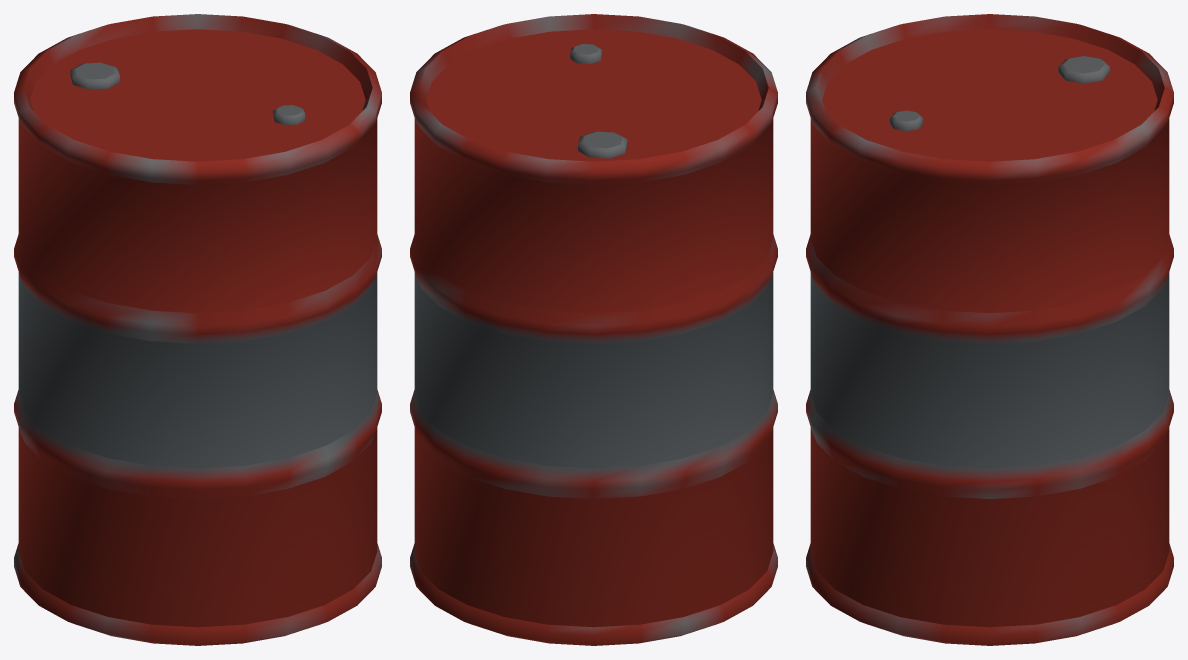
The model's file is drum.steel.red.glb.
3 views of the same model, side by side, from view 1: azimuth 30°, elevation 25°; view 2: azimuth 150°, elevation 25°; view 3: azimuth 270°, elevation 25° (orthographic).
Visible parts, largest first — view 1: drum_steel_red; view 2: drum_steel_red; view 3: drum_steel_red.
Boxes of the visible parts, <box> form: drum_steel_red: <box>14,14,381,645</box>; drum_steel_red: <box>410,14,777,645</box>; drum_steel_red: <box>806,14,1173,645</box>.
Size of what is drawn, in the model's own units: 0.653 by 0.95 by 0.653.
